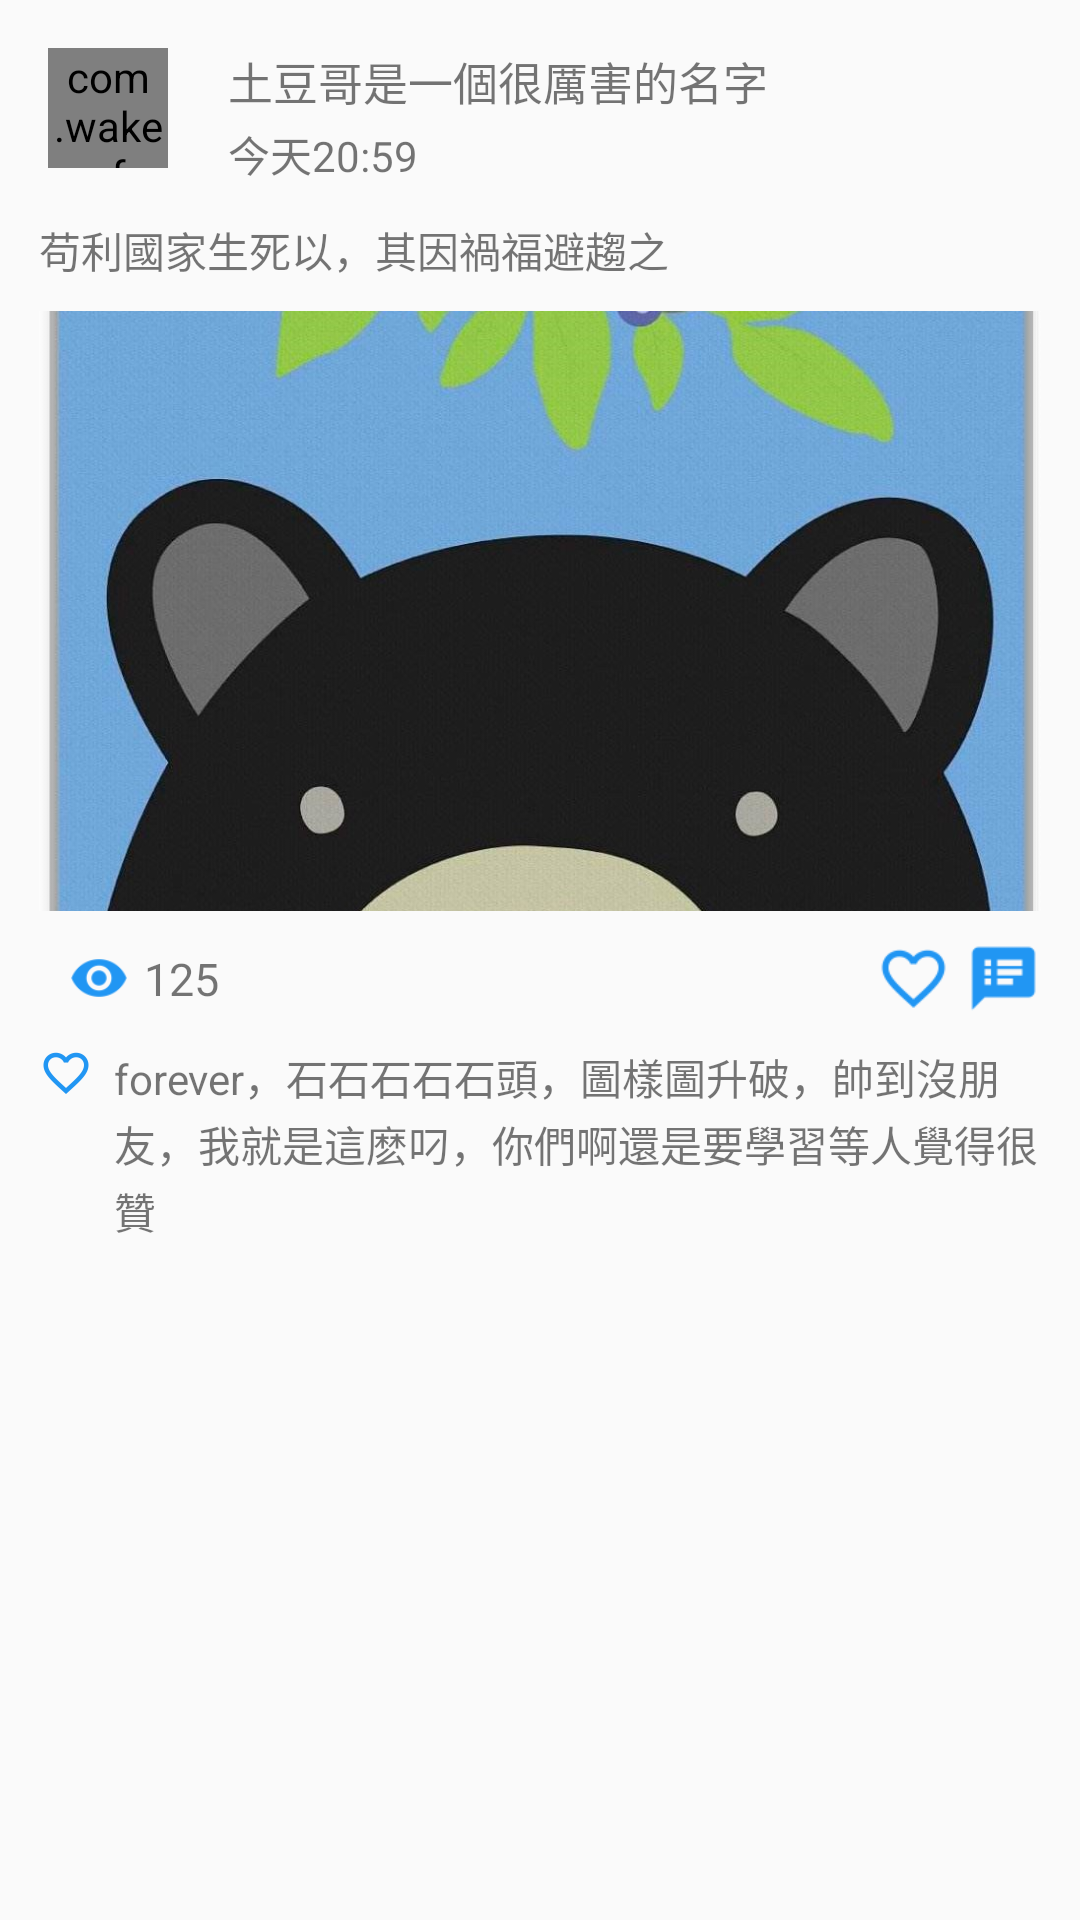

Named icons in this screenshot (1080px x 1920px) and their bounding boxes, (x1, y1, x2, y2):
comment: (971, 946, 1036, 1010)
favourite: (881, 949, 946, 1008), (43, 1052, 89, 1094)
viewed: (71, 959, 127, 997)
